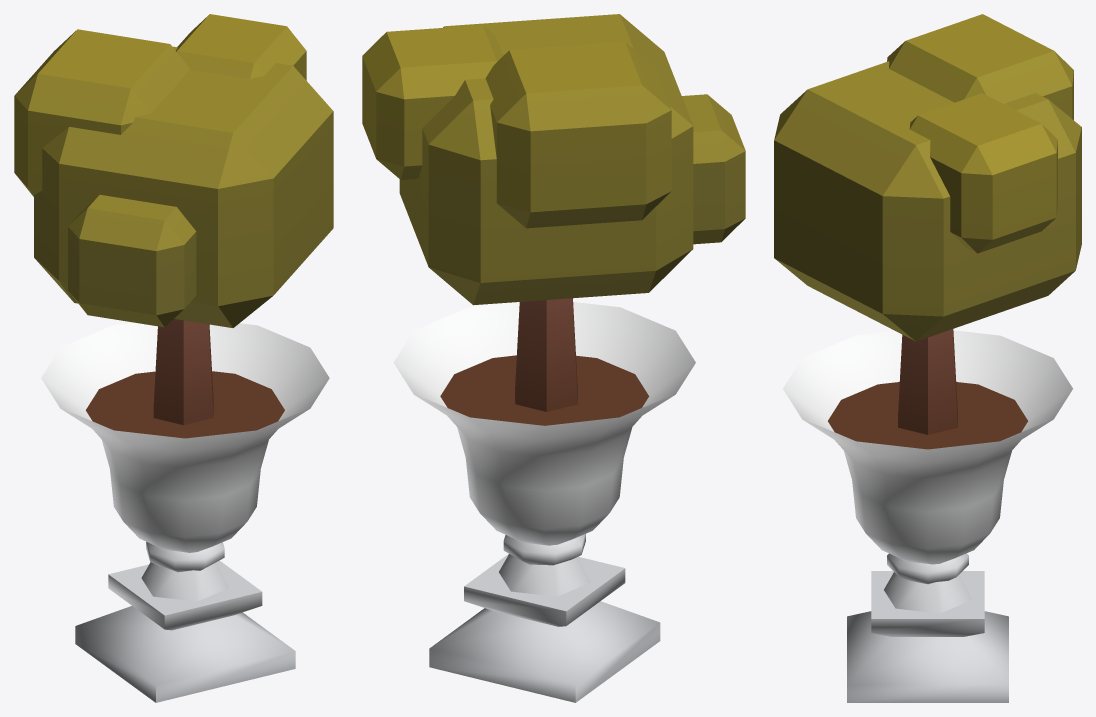
File: tree.fbx
3 renders of one model, left to right at view 1: azimuth 30°, elevation 25°; view 2: azimuth 150°, elevation 25°; view 3: azimuth 270°, elevation 25°, orthographic. The views are drawn at different scales.
Parts seen in each view (by area): view 1: tree; view 2: tree; view 3: tree.
Part boxes in pixels (x1=…): tree: x1=14, y1=14, x2=333, y2=702; tree: x1=362, y1=14, x2=745, y2=702; tree: x1=774, y1=14, x2=1081, y2=702.
Size of the model in its own units: 136 by 265 by 124.
